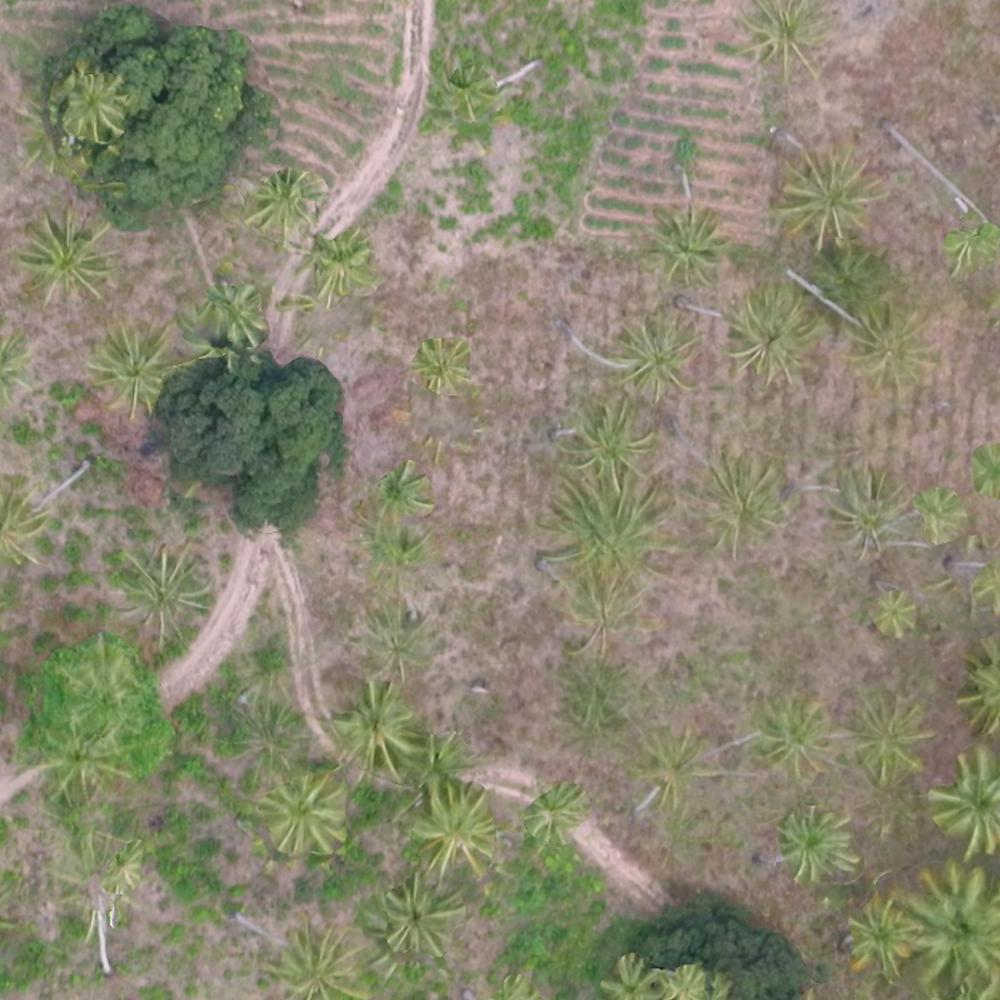Palm: (894, 868, 995, 988), (554, 480, 660, 581), (564, 396, 655, 490), (924, 746, 1000, 856), (699, 458, 783, 555), (25, 212, 111, 304), (332, 684, 417, 777), (783, 148, 872, 236), (731, 289, 817, 379), (409, 786, 494, 875), (827, 468, 912, 554), (846, 307, 934, 390), (270, 921, 366, 997), (614, 316, 702, 398), (742, 2, 830, 82), (91, 321, 169, 410), (850, 696, 930, 781), (119, 551, 199, 635), (751, 699, 836, 777), (353, 600, 433, 679), (645, 208, 721, 285), (269, 778, 350, 849), (636, 728, 709, 806), (382, 879, 455, 954), (781, 807, 854, 881), (844, 899, 920, 966), (245, 173, 313, 240), (57, 75, 121, 141), (369, 466, 434, 523), (414, 334, 474, 394), (311, 232, 368, 295)
